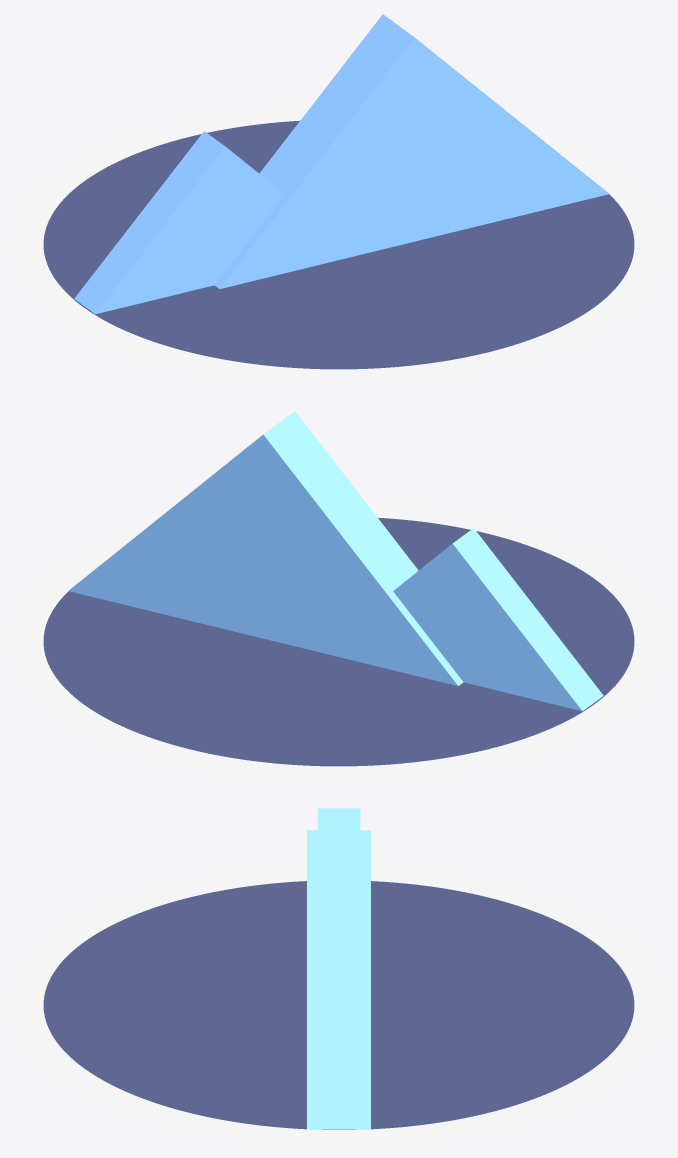
Rendered from mountainhacks_mountain.glb.
3 renders of one model, top to bottom at view 1: azimuth 30°, elevation 25°; view 2: azimuth 150°, elevation 25°; view 3: azimuth 270°, elevation 25°, orthographic.
Parts seen in each view (by area): view 1: mountain; view 2: mountain; view 3: mountain.
Boxes of the visible parts, box(x1,y1,x2,y2) form: mountain: box(14, 14, 663, 382); mountain: box(14, 411, 663, 779); mountain: box(14, 808, 663, 1143).
Size of the model in its own units: 6.12 by 2.13 by 6.12.
